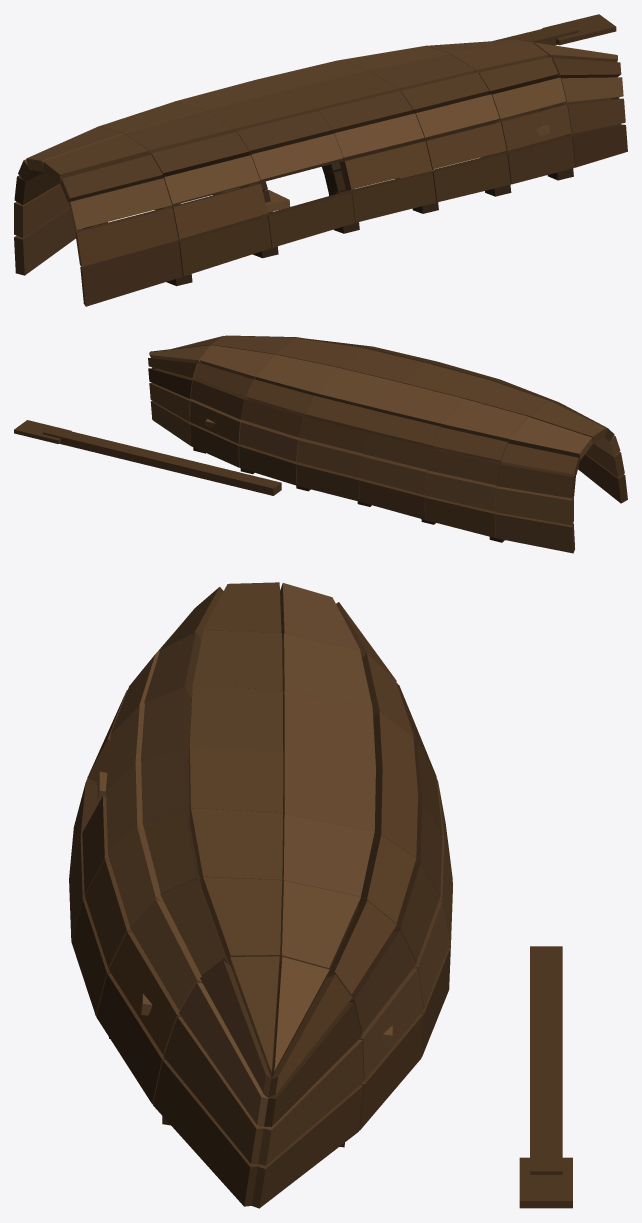
The model's file is naufragio_bote.glb.
3 views of the same model, one above another, from view 1: azimuth 30°, elevation 25°; view 2: azimuth 150°, elevation 25°; view 3: azimuth 270°, elevation 25° (orthographic). The views are drawn at different scales.
Parts seen in each view (by area): view 1: naufragio_bote; view 2: naufragio_bote; view 3: naufragio_bote.
Part boxes in pixels (x1=…): naufragio_bote: x1=14, y1=14, x2=627, y2=306; naufragio_bote: x1=14, y1=335, x2=627, y2=553; naufragio_bote: x1=69, y1=582, x2=572, y2=1208.
Size of the model in its own units: 5.72 by 1.22 by 2.46.
